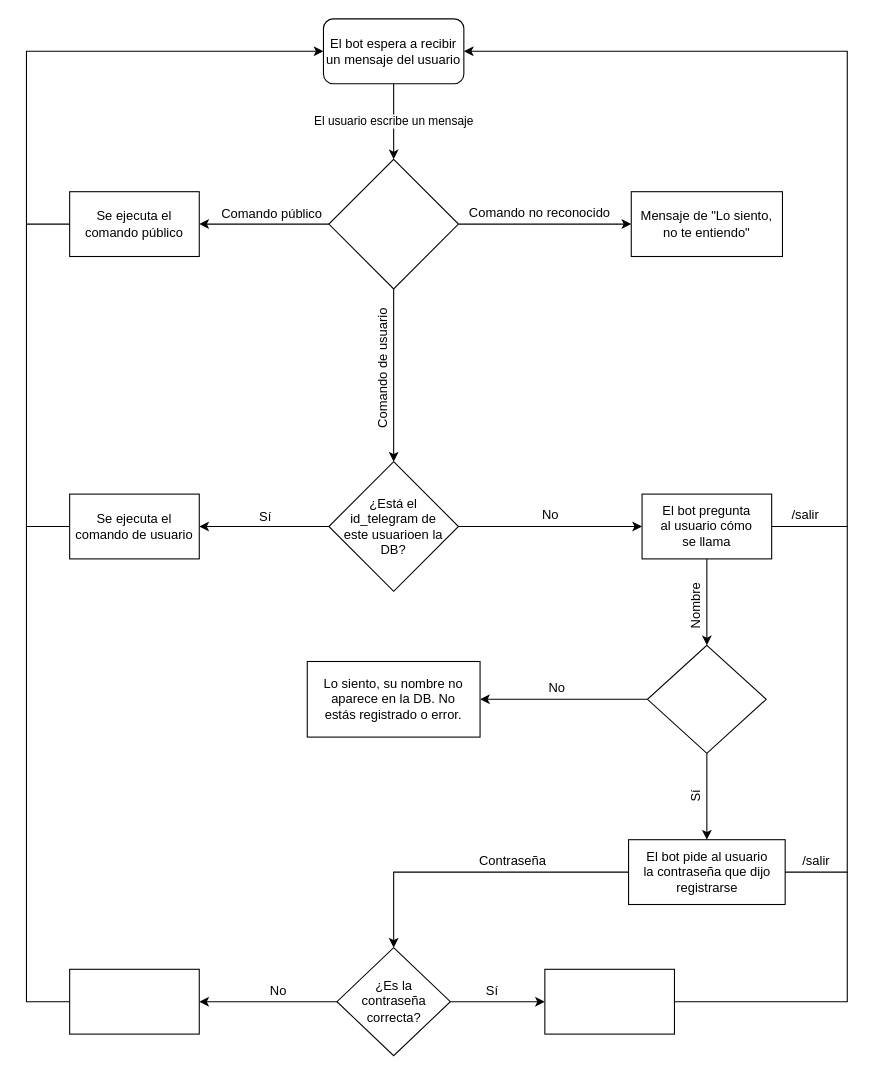
The diagram is 875 pixels wide and 1075 high, and some of its shapes have lost their labels. Here are the shapes that lost their labels. From the top down, the centre of each, then its label:
At pixel 393 223: "¿Qué ha escrito el usuario?".
At pixel 706 698: "¿Está el nombre del usuario en la DB?".
At pixel 134 1001: "La contraseña no es correcta".
At pixel 609 1001: "El id_telegram del usuario se guarda en la DB".
